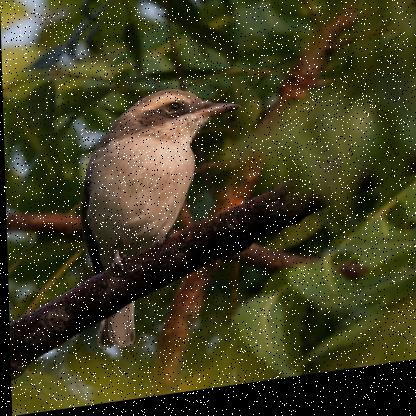Burung: (77, 86, 247, 354)
